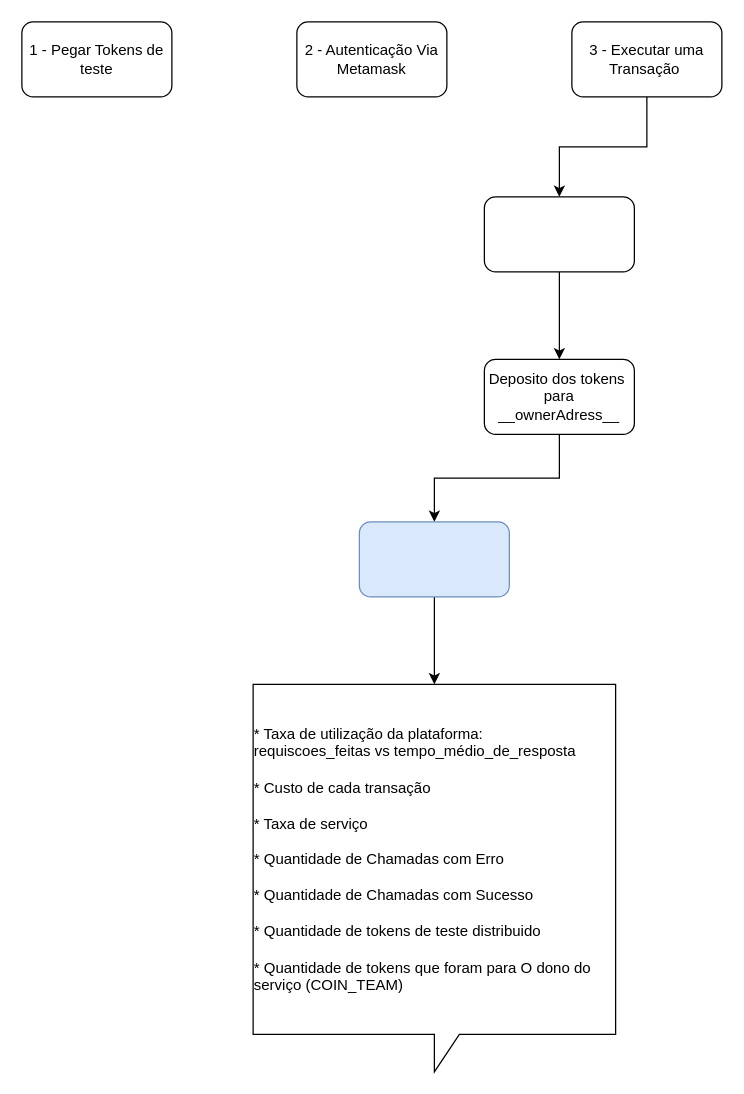
The diagram is 744 pixels wide and 1094 high, and some of its shapes have lost their labels. The centre of each missing label's shape, as x and y in pixels:
Debito dos tokens do usuário: the point at 558,234
Quais informações conseguimos coletar aqui ?: the point at 433,559
